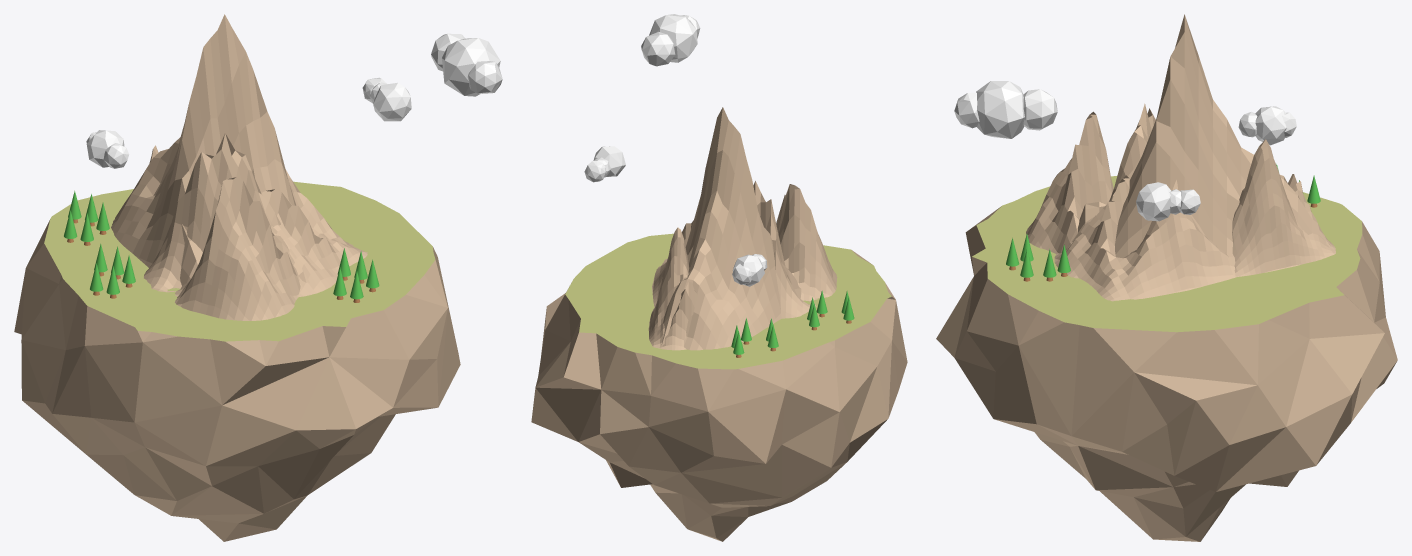
3 views of the same model, side by side, from view 1: azimuth 30°, elevation 25°; view 2: azimuth 150°, elevation 25°; view 3: azimuth 270°, elevation 25° (orthographic). The views are drawn at different scales.
Visible parts, largest first — view 1: Sphere_2, Cube_Mat.4_0, Landscape_2, Landscape_4, Landscape_3, moon_thingy_2, moon_thingy_10, moon_thingy_4, moon_thingy_7; view 2: Sphere_2, Cube_Mat.4_0, Landscape_4, Landscape_2, Landscape_1, moon_thingy_2, moon_thingy_3, moon_thingy_10, moon_thingy_7, Landscape_3; view 3: Sphere_2, Cube_Mat.4_0, Landscape_4, Landscape_3, Landscape_1, Landscape_2, moon_thingy_2, moon_thingy_3, moon_thingy_10, moon_thingy_7, moon_thingy_4.
Boxes of the visible parts, x1,y1,x2,y2 form: Sphere_2: (14,219,460,541); Cube_Mat.4_0: (44,181,435,341); Landscape_2: (144,133,300,320); Landscape_4: (111,14,309,285); Landscape_3: (261,169,367,296); moon_thingy_2: (442,38,500,96); moon_thingy_10: (373,82,411,121); moon_thingy_4: (467,61,502,93); moon_thingy_7: (86,130,124,167); Sphere_2: (531,250,907,541); Cube_Mat.4_0: (565,233,891,369); Landscape_4: (661,107,801,350); Landscape_2: (753,181,837,318); Landscape_1: (648,227,698,350); moon_thingy_2: (649,14,697,62); moon_thingy_3: (641,32,675,66); moon_thingy_10: (593,146,625,176); moon_thingy_7: (732,254,764,286); Landscape_3: (652,220,693,306); Sphere_2: (936,206,1397,541); Cube_Mat.4_0: (972,176,1362,332); Landscape_4: (1066,14,1331,265); Landscape_3: (1054,175,1236,301); Landscape_1: (1232,139,1335,276); Landscape_2: (1026,103,1155,253); moon_thingy_2: (976,81,1024,138); moon_thingy_3: (1023,89,1057,130); moon_thingy_10: (1136,182,1170,221); moon_thingy_7: (1255,106,1286,145); moon_thingy_4: (954,92,979,128).
Size of the model in its own units: 500 by 644 by 511.
